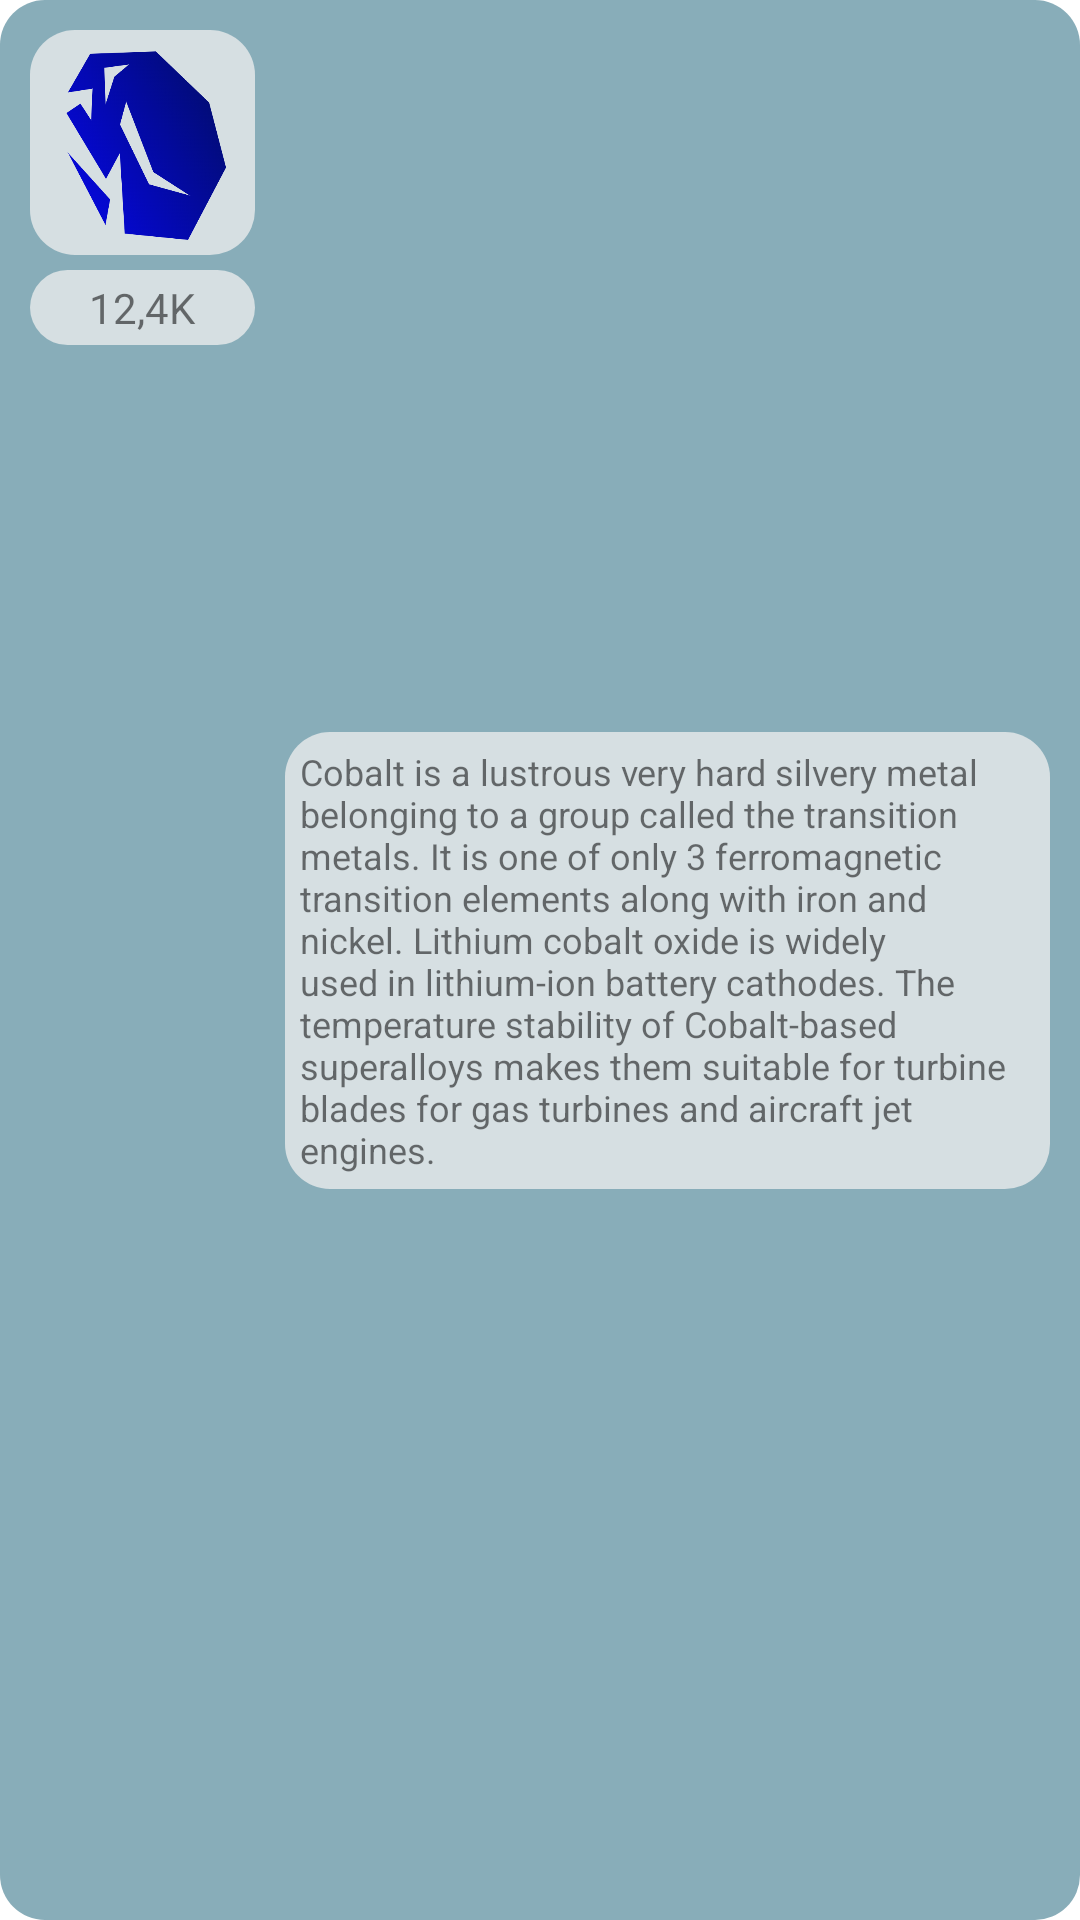

Icon bounding boxes for this 1080 × 1920 phone screenshot, format (x1, y1, x2, y2):
cobalt: (30, 30, 255, 255)
